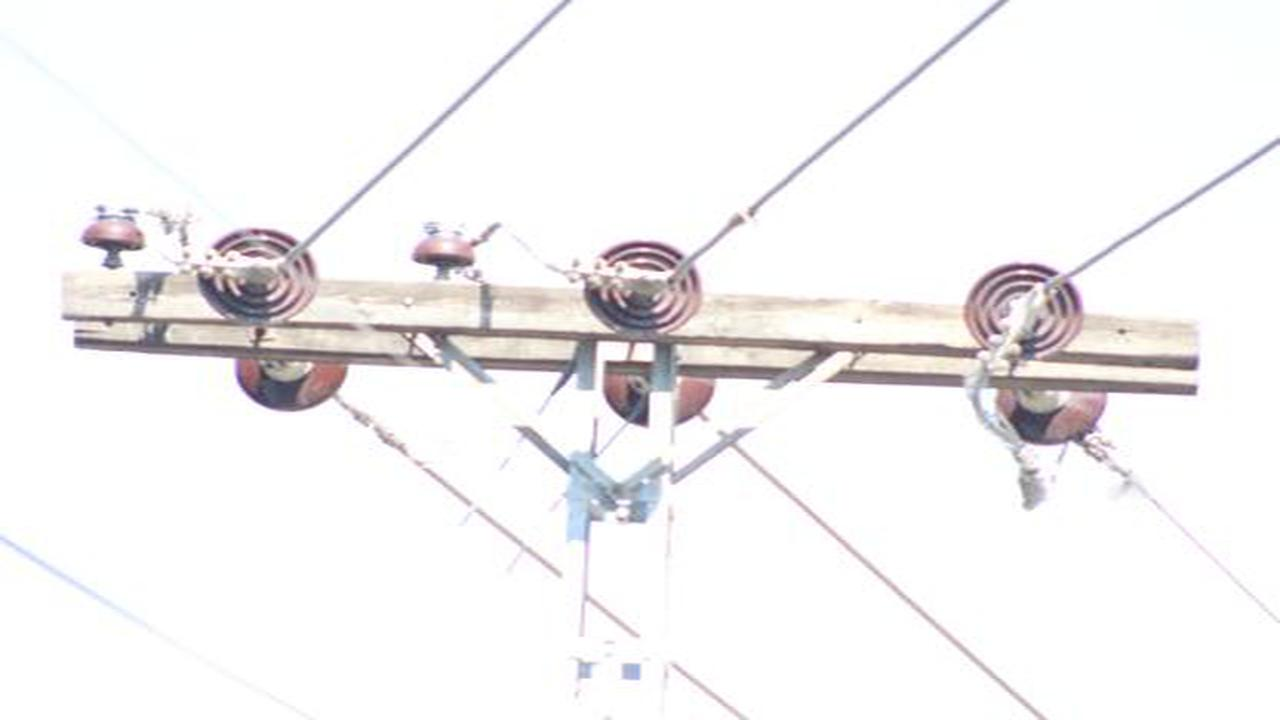insulator_disc: (582, 237, 705, 339), (961, 260, 1087, 359), (192, 224, 316, 317), (990, 376, 1113, 442), (605, 359, 716, 427), (230, 353, 352, 411)
insulator_pin: (407, 216, 482, 275), (77, 202, 148, 255)
